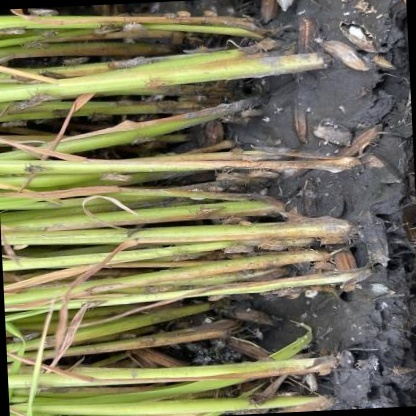Brown_hopper: (136, 70, 183, 94), (103, 54, 152, 76), (231, 38, 280, 57), (136, 282, 185, 300), (25, 86, 65, 106), (15, 94, 48, 118), (255, 285, 307, 300), (96, 169, 135, 187), (163, 248, 201, 266), (5, 328, 41, 347), (56, 54, 94, 72), (246, 165, 281, 184), (256, 235, 292, 253), (185, 207, 224, 223), (93, 18, 125, 37), (216, 241, 254, 257), (296, 368, 320, 393), (366, 53, 396, 73), (13, 39, 50, 55), (19, 161, 53, 178), (243, 392, 279, 408), (181, 44, 217, 60), (150, 98, 183, 114), (33, 68, 66, 84), (232, 108, 267, 123), (211, 168, 243, 184), (380, 366, 416, 380), (23, 381, 54, 397), (313, 235, 350, 248), (119, 20, 145, 38), (200, 291, 230, 306), (126, 134, 158, 148), (78, 298, 107, 313), (110, 97, 139, 112), (85, 109, 112, 125), (27, 8, 54, 22), (131, 335, 155, 350), (108, 332, 137, 344), (37, 27, 60, 41), (306, 260, 337, 270), (216, 217, 241, 229), (199, 8, 220, 22), (158, 10, 178, 23), (222, 147, 246, 157), (173, 8, 189, 22), (232, 221, 257, 229)
